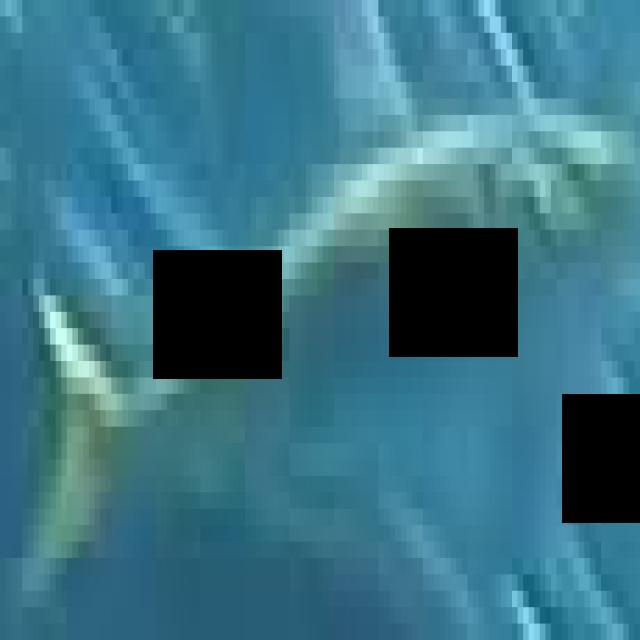fish: (5, 16, 640, 639)
